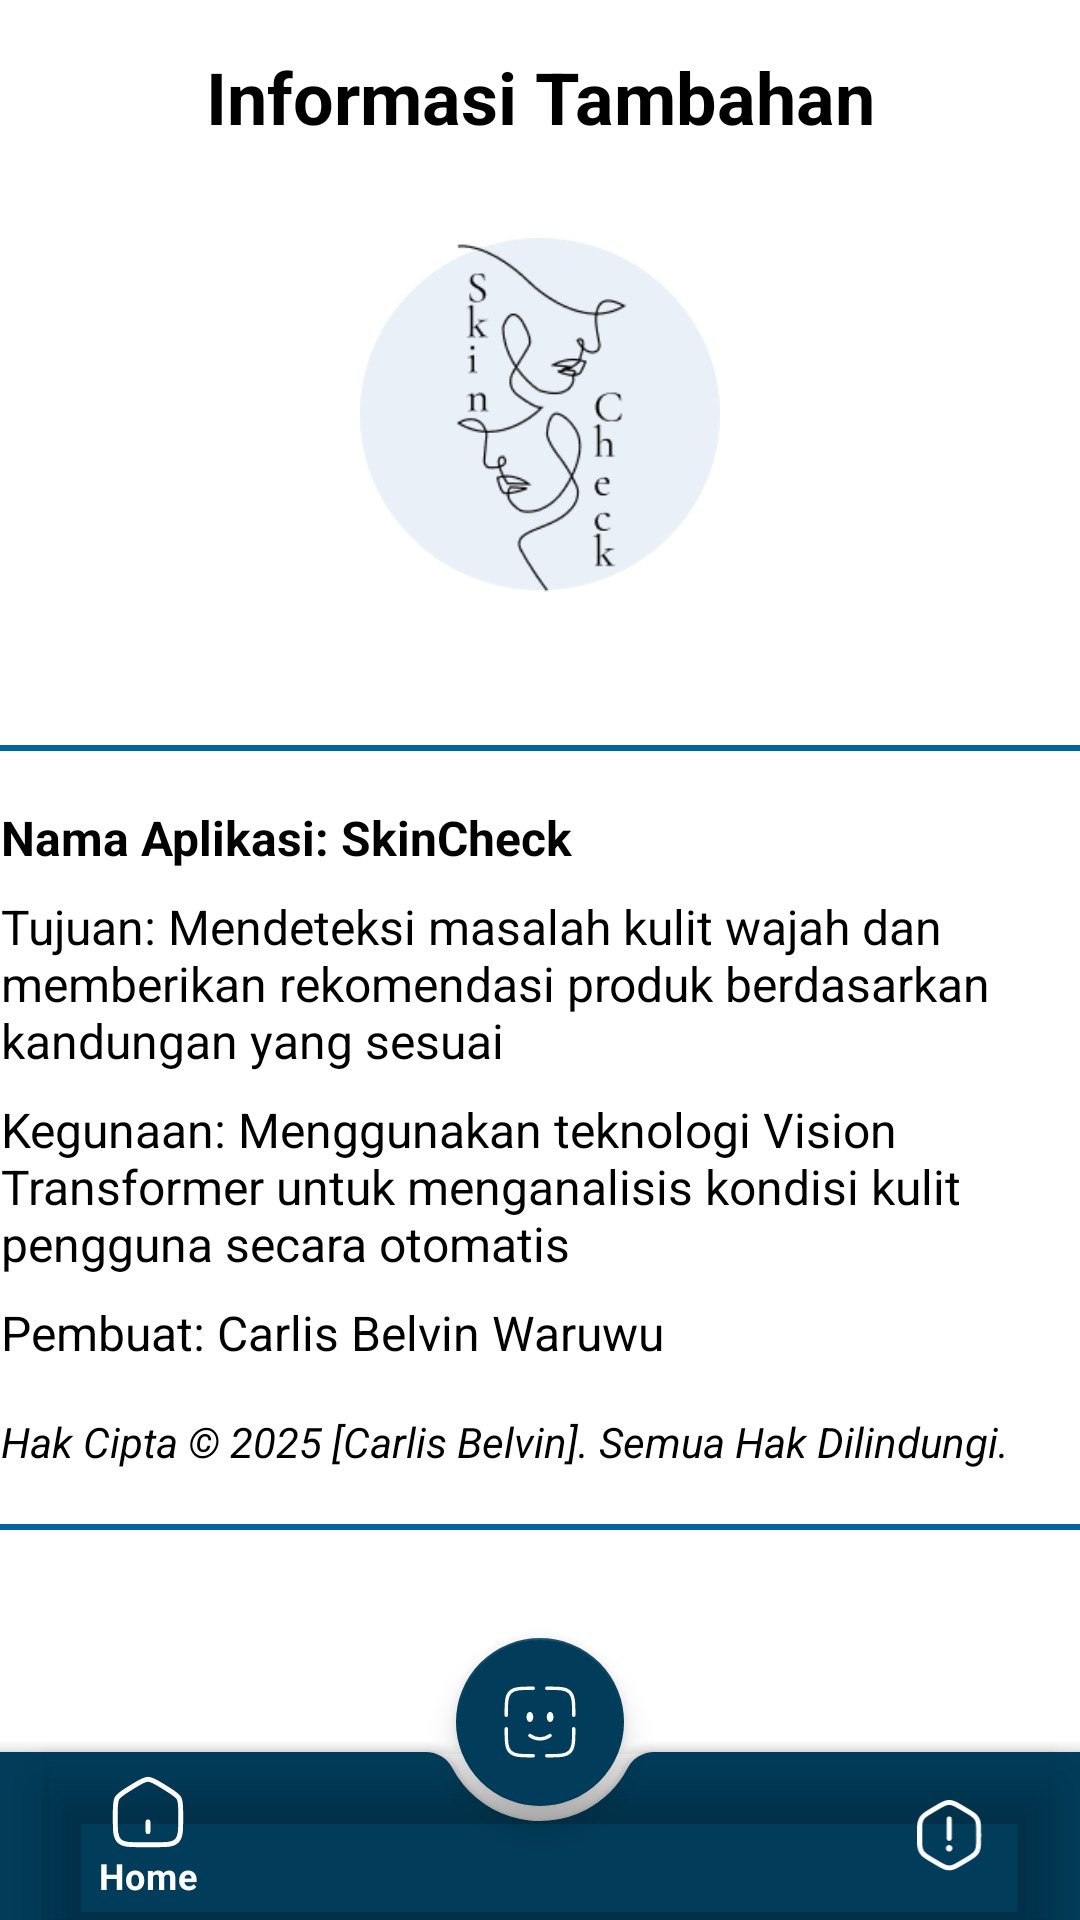

Where to tap for icons on this 1080 × 1920 app screen, as [x,y]:
scan: [540,1745]
